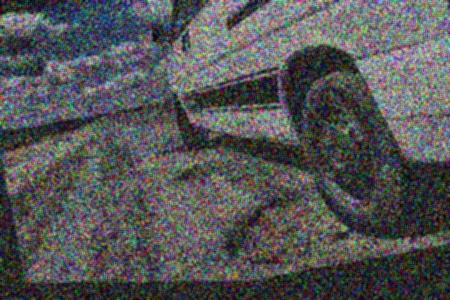pothole: (214, 176, 375, 281), (174, 152, 255, 186), (161, 142, 191, 156)
